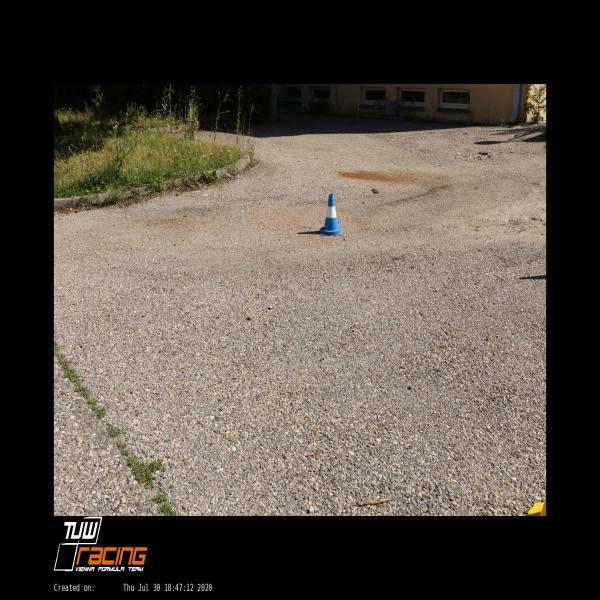blue_cone: (320, 194, 342, 236)
